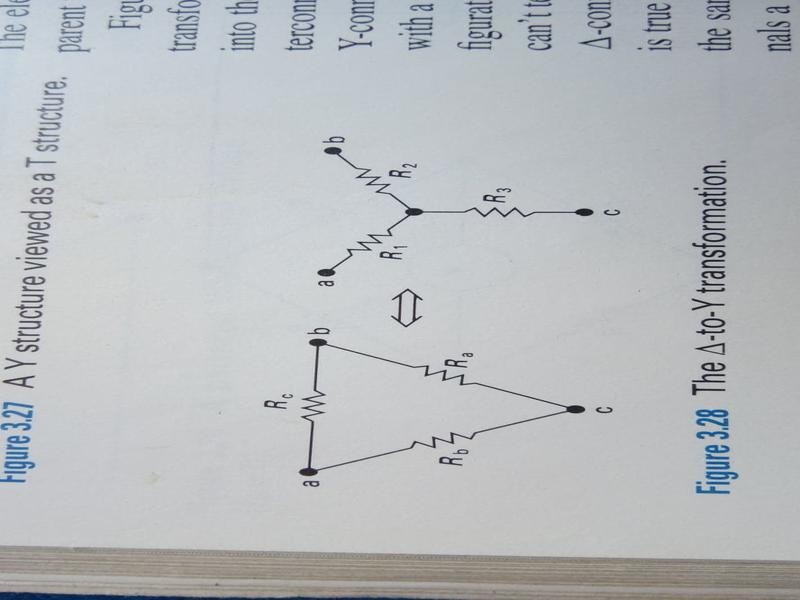resistor: (390, 356, 504, 394), (381, 422, 493, 458), (336, 223, 407, 267), (290, 368, 333, 440), (349, 159, 402, 208), (454, 199, 536, 230)
